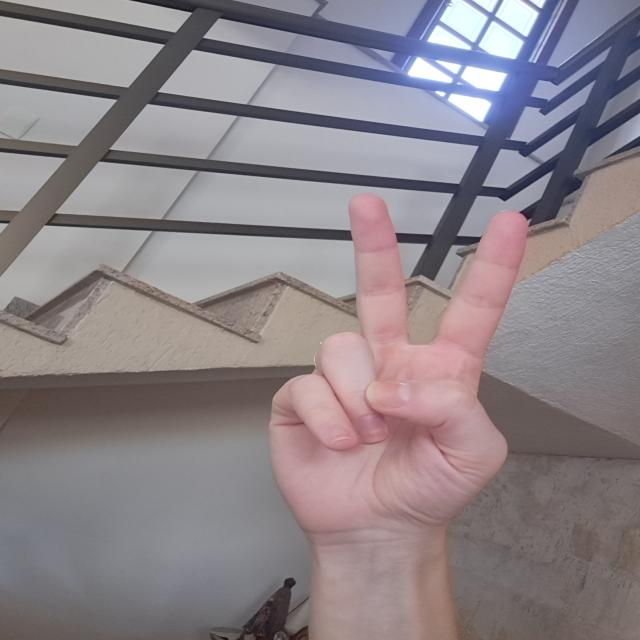V: (262, 186, 541, 541)
